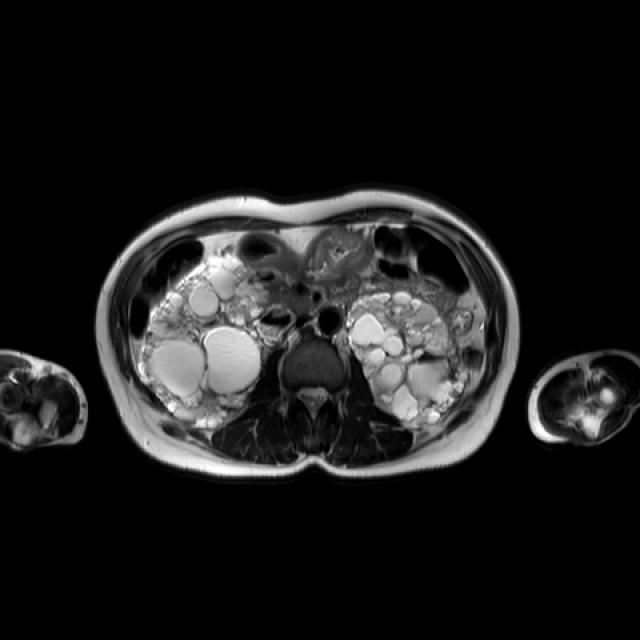sag: (140, 259, 270, 430)
sol: (350, 292, 466, 430)
